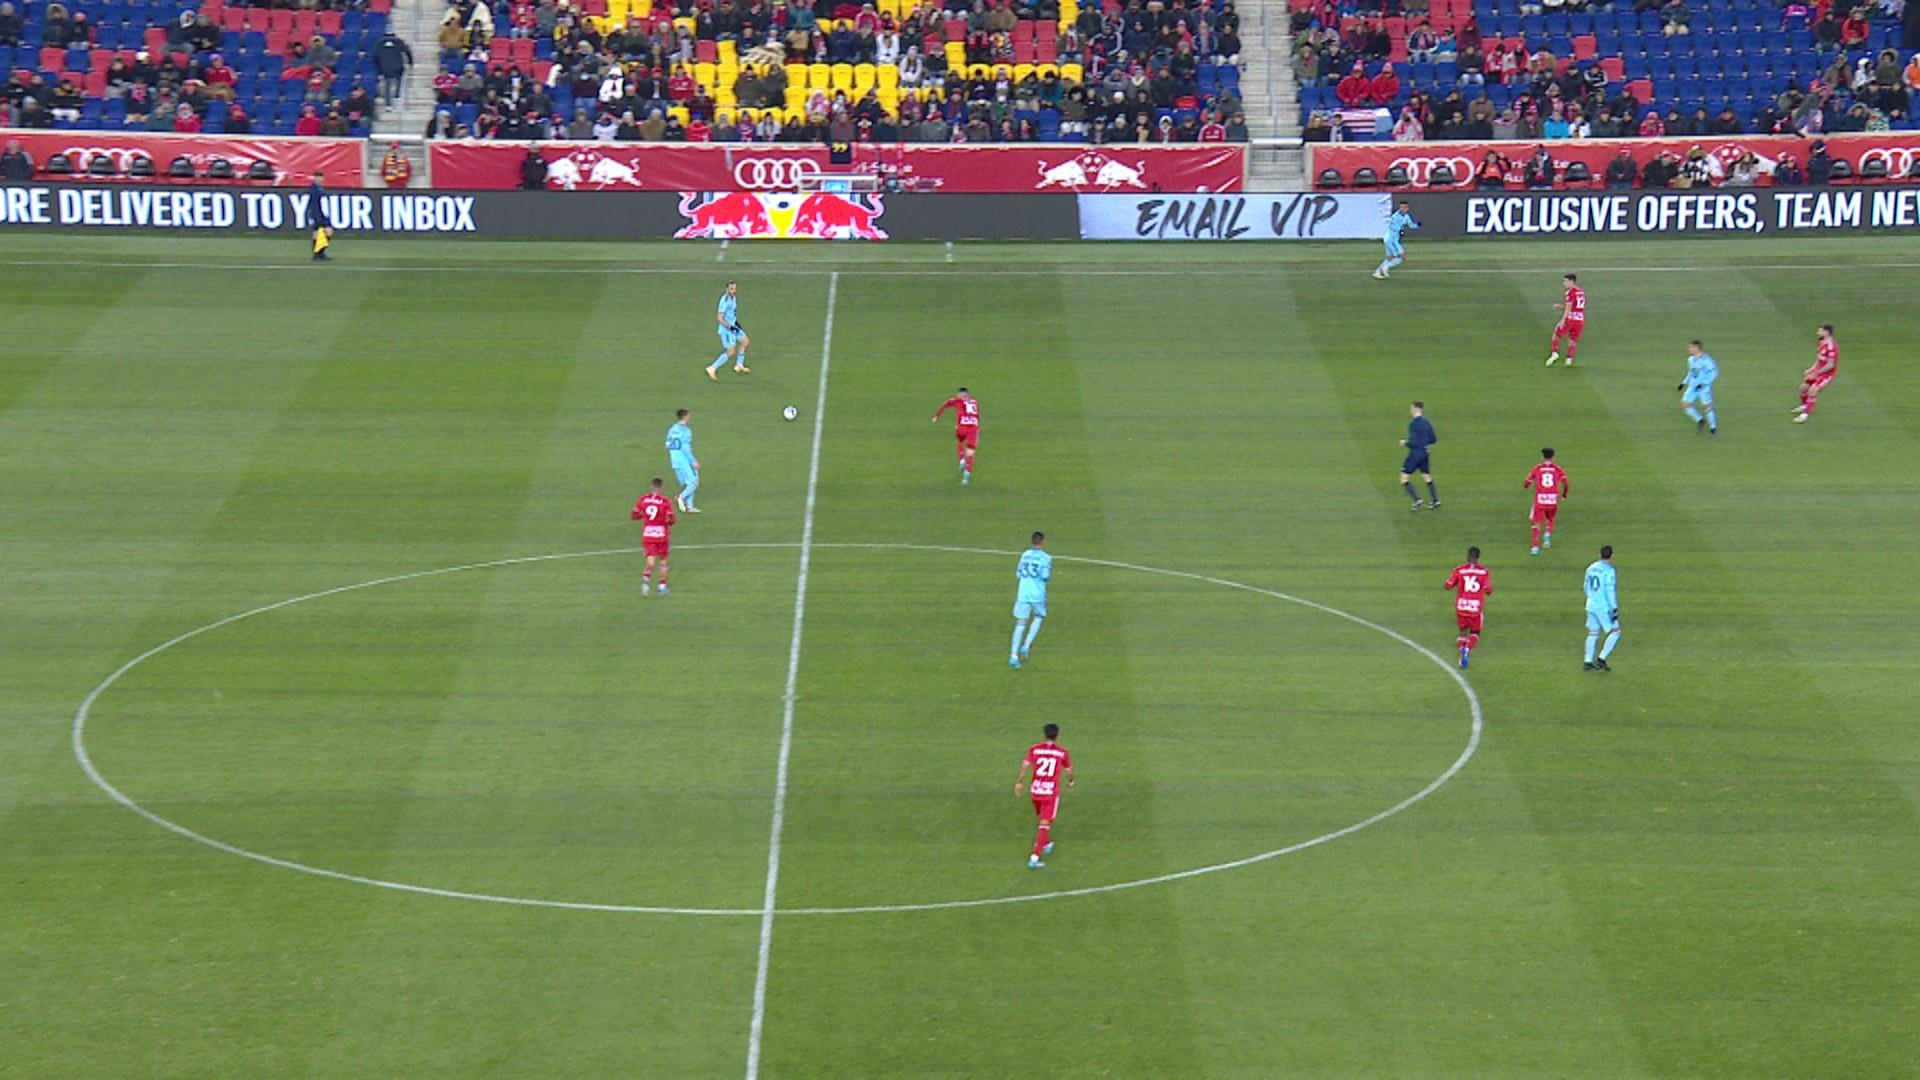football: (782, 404, 799, 422)
